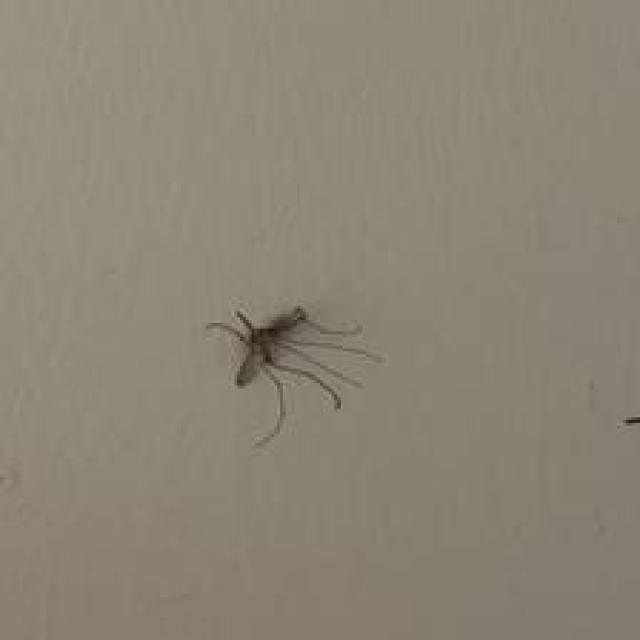Culex: (204, 304, 384, 450)
